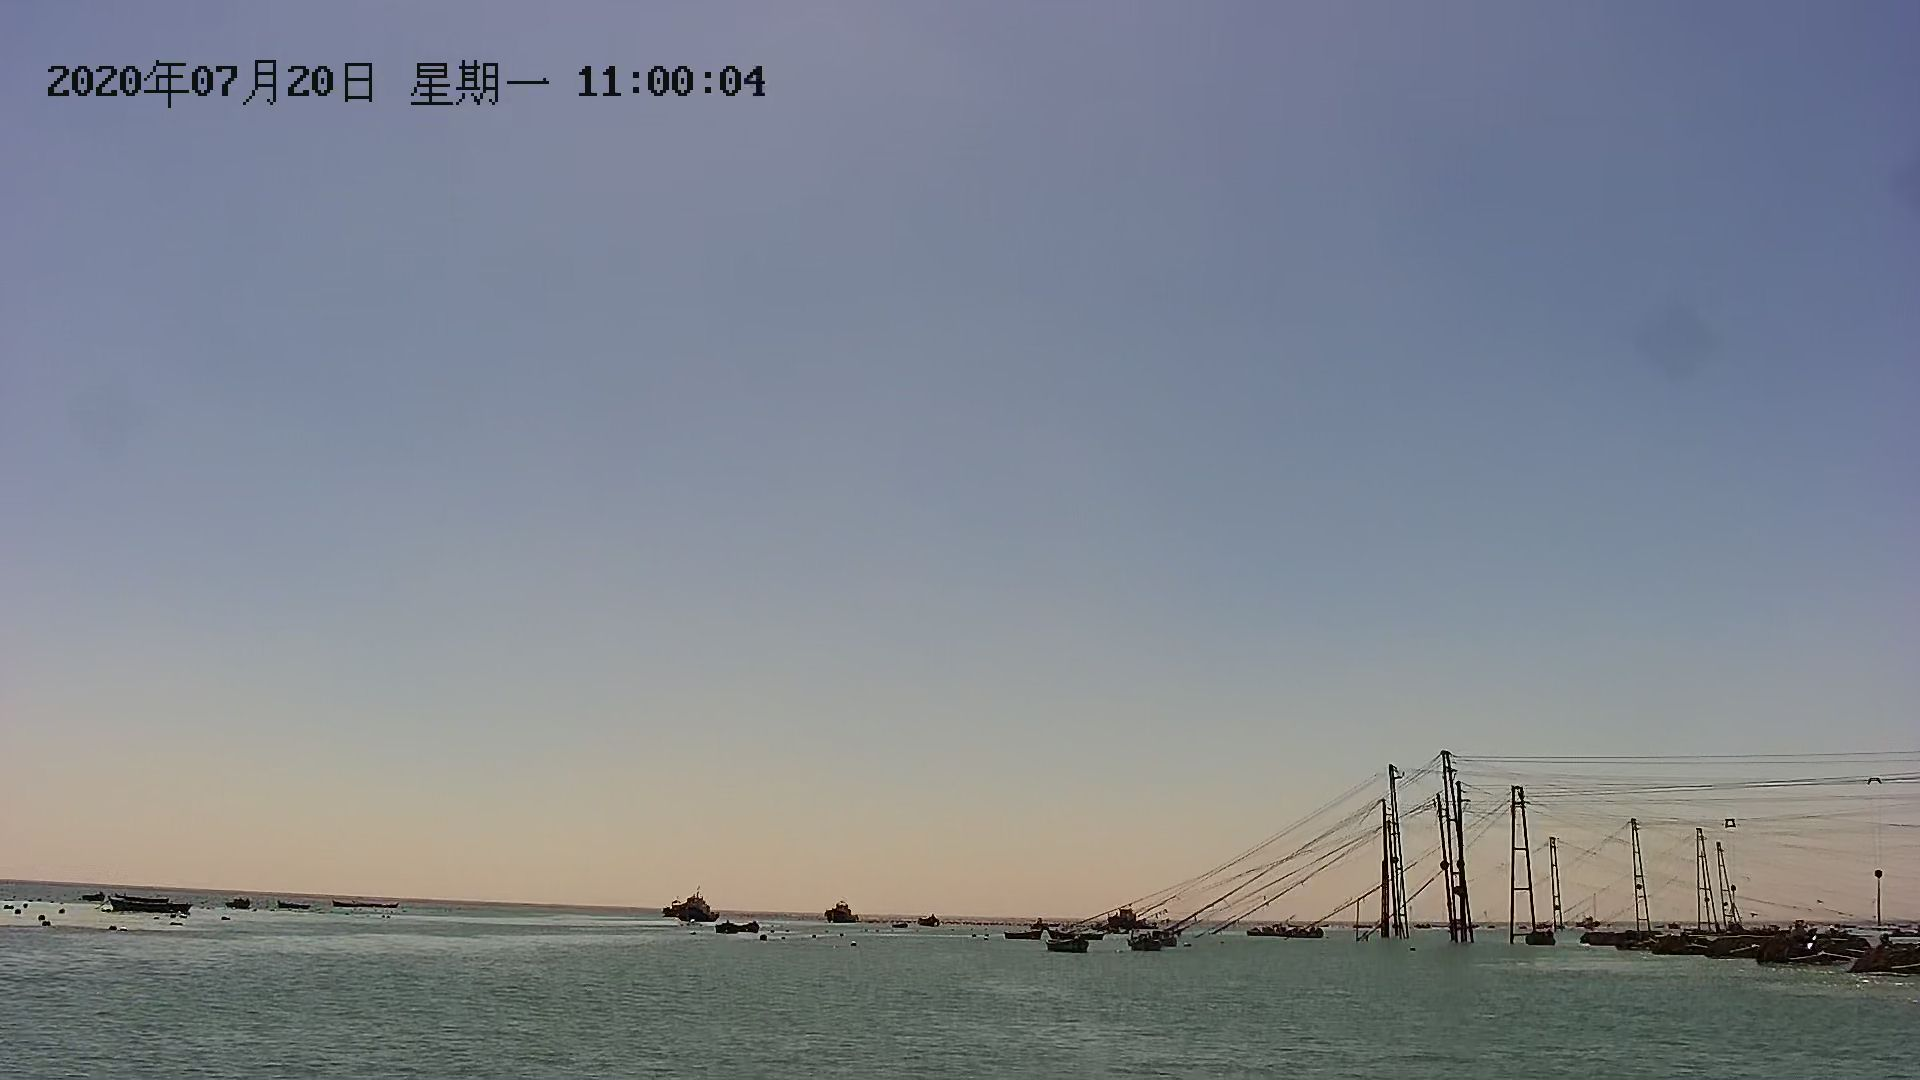boat: (105, 889, 193, 918), (1043, 936, 1091, 956)
mast: (1429, 748, 1481, 948), (1377, 760, 1416, 940), (1502, 779, 1544, 945), (1625, 815, 1658, 934), (1692, 822, 1724, 936), (1543, 832, 1572, 939), (1714, 836, 1745, 932)
rubbish: (1633, 920, 1920, 980), (662, 887, 723, 926)
ship: (822, 898, 866, 927)
